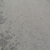zebra: (5, 15, 50, 37)
